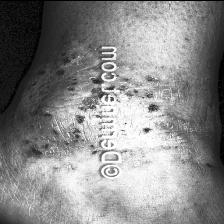Non-Cancerous Skin Condition: (32, 46, 212, 172), (142, 125, 154, 134), (146, 104, 156, 114), (146, 94, 155, 96)
